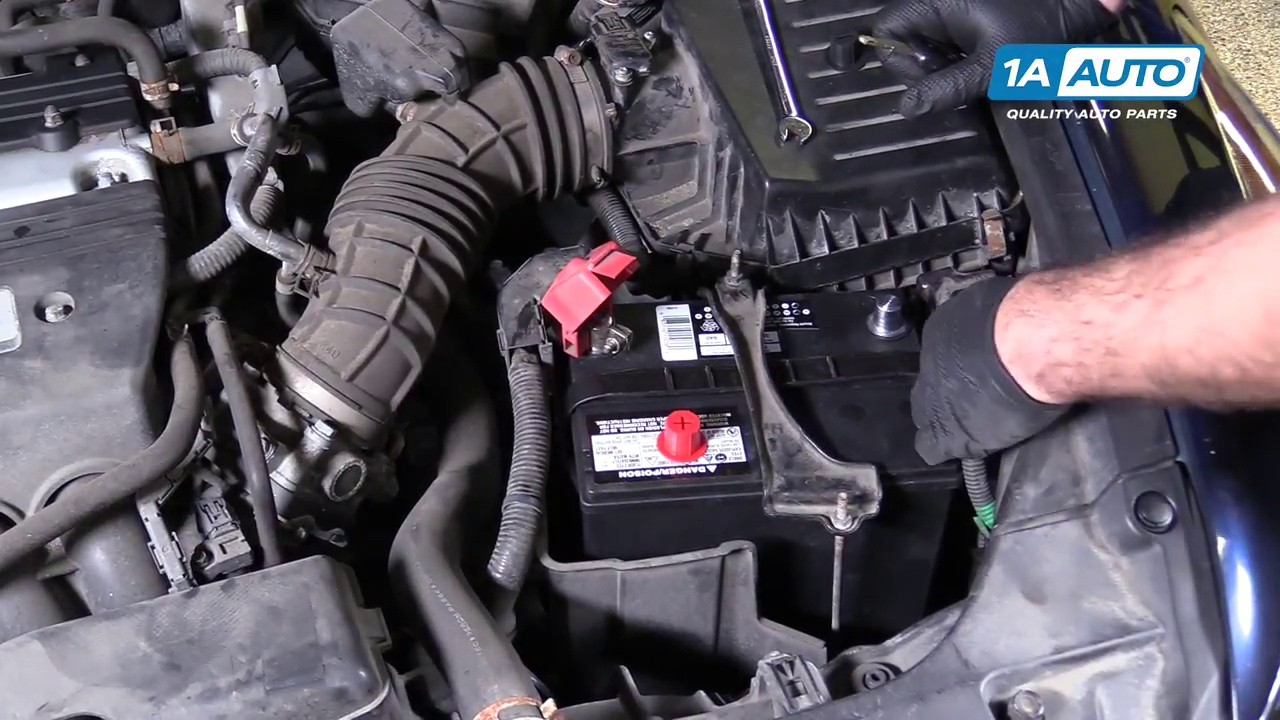battery: (577, 280, 932, 512)
neg_disconnected: (831, 267, 930, 346)
pos_connected: (515, 246, 664, 367)
